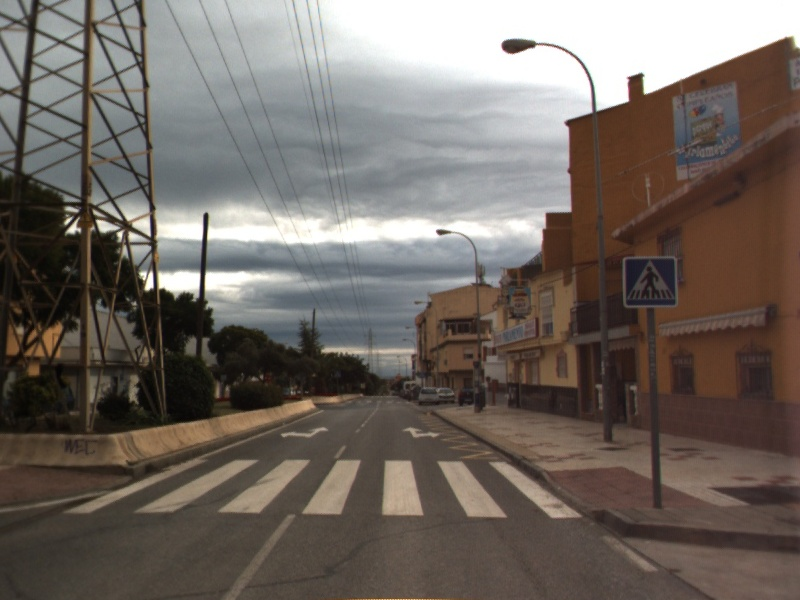STRAIGHT_LEFT: (279, 424, 331, 440)
STRAIGHT_RIGHT: (400, 424, 442, 440)
